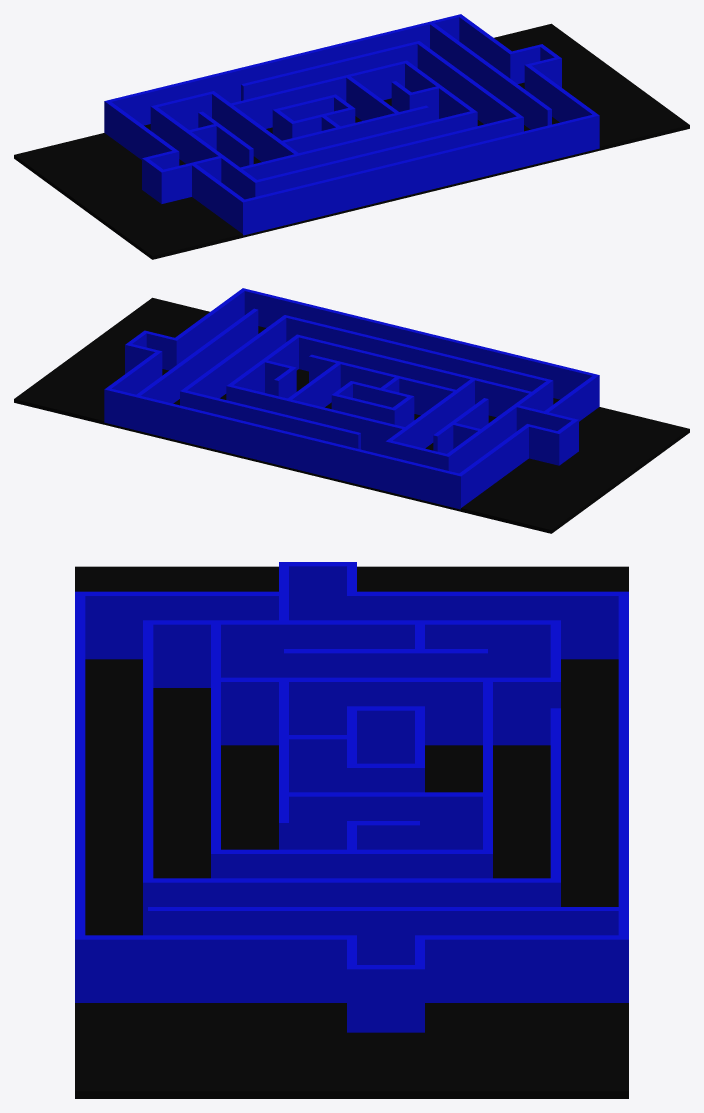
The model's file is Labyrinth1.fbx.
3 views of the same model, one above another, from view 1: azimuth 30°, elevation 25°; view 2: azimuth 150°, elevation 25°; view 3: azimuth 270°, elevation 25° (orthographic). The views are drawn at different scales.
Visible parts, largest first — view 1: Lab1; view 2: Lab1; view 3: Lab1.
Part boxes in pixels (x1,y1,x2,y2): Lab1: (14,14,689,259); Lab1: (14,288,689,533); Lab1: (75,562,628,1098).
Size of the model in its own units: 60.73 by 3.82 by 27.1.
